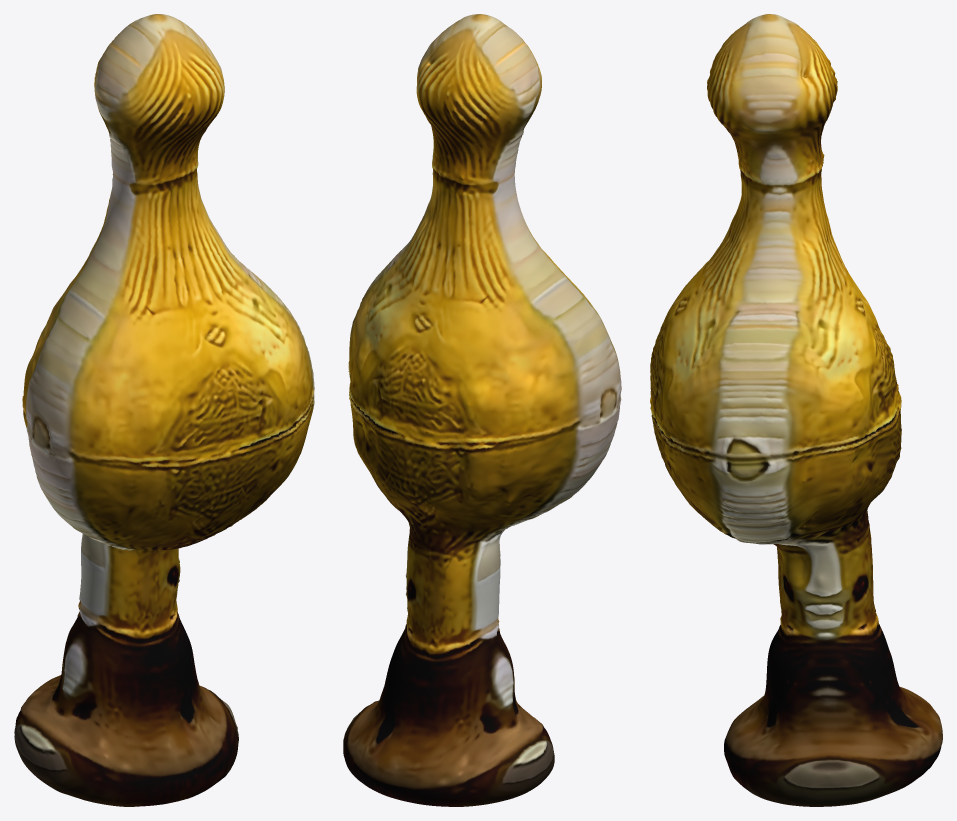
Rendered from kfl-2291.glb.
3 renders of one model, left to right at view 1: azimuth 30°, elevation 25°; view 2: azimuth 150°, elevation 25°; view 3: azimuth 270°, elevation 25°, orthographic. The views are drawn at different scales.
Parts seen in each view (by area): view 1: kfl-2291; view 2: kfl-2291; view 3: kfl-2291.
Part boxes in pixels (box(x1,y1,x2,y2)): kfl-2291: box(14, 14, 314, 806); kfl-2291: box(343, 14, 621, 806); kfl-2291: box(650, 14, 942, 806).
Size of the model in its own units: 0.3512 by 0.9955 by 0.347.
1 material, 1 textured.
